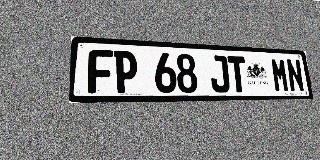6: (154, 52, 177, 93)
8: (176, 53, 198, 93)
F: (88, 49, 113, 93)
J: (209, 55, 230, 93)
M: (270, 58, 290, 92)
N: (286, 59, 305, 92)
P: (114, 50, 138, 93)
T: (227, 56, 248, 92)
